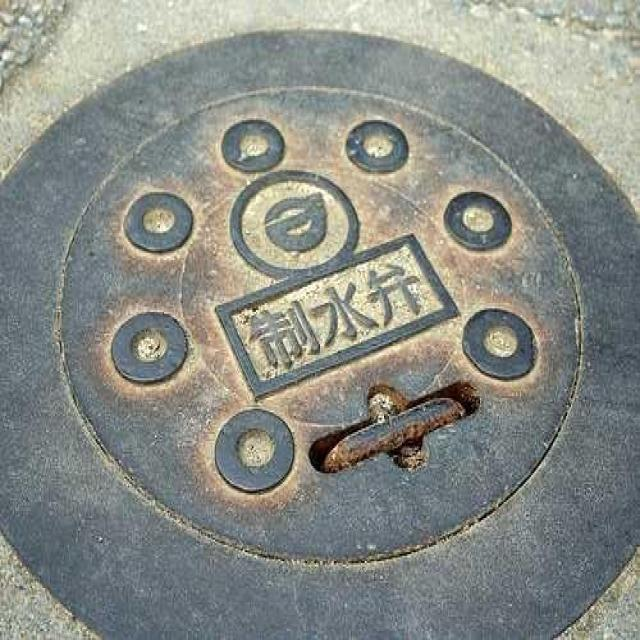manhole: (0, 33, 640, 637)
